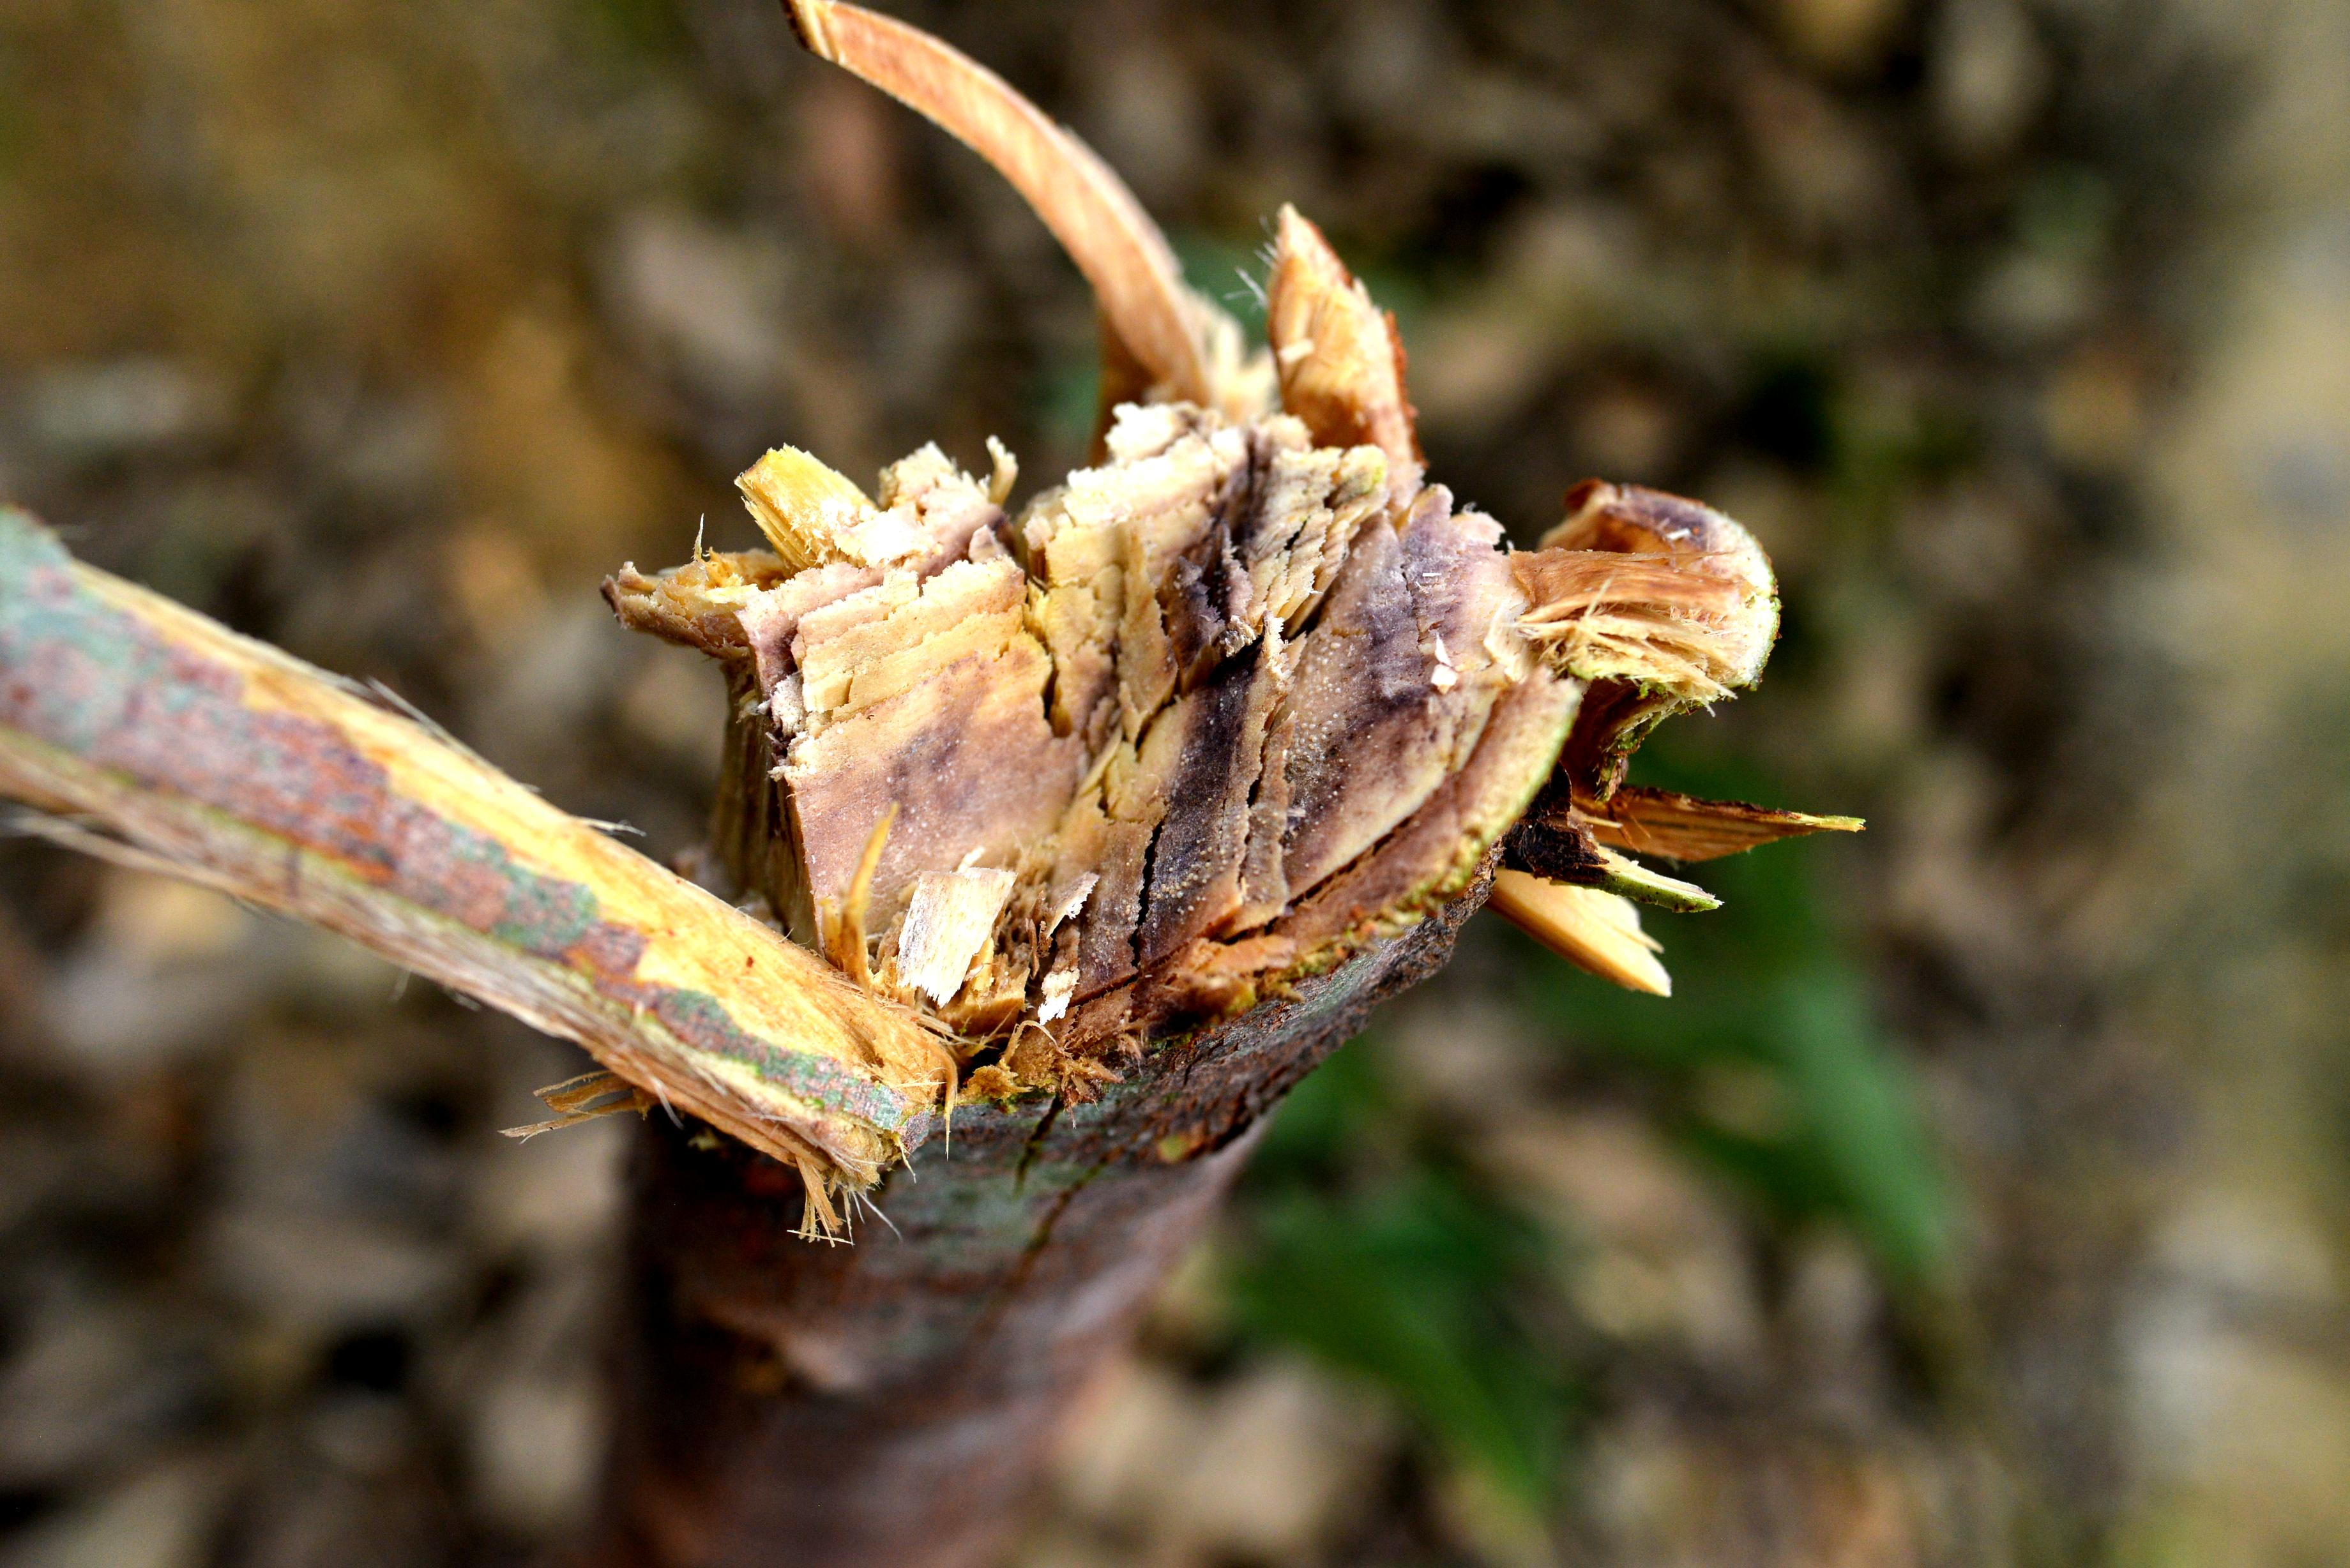Ralstonia: (1099, 443, 1438, 959), (847, 724, 1010, 852), (770, 481, 852, 534)
